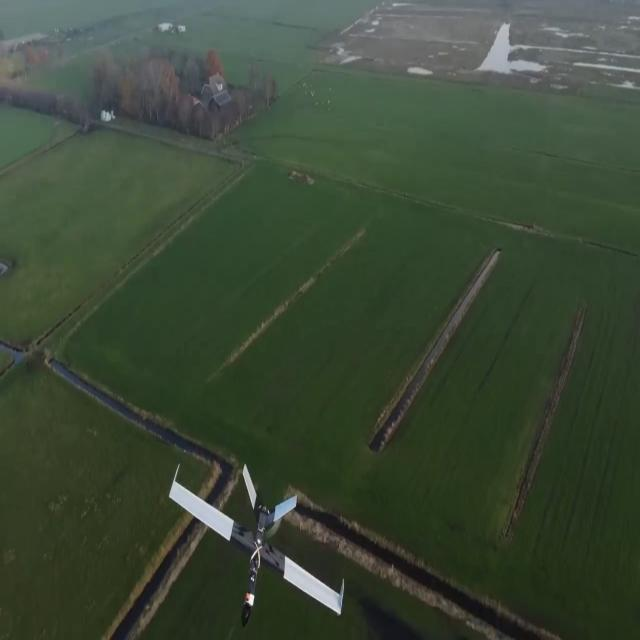iha: (172, 466, 351, 627)
